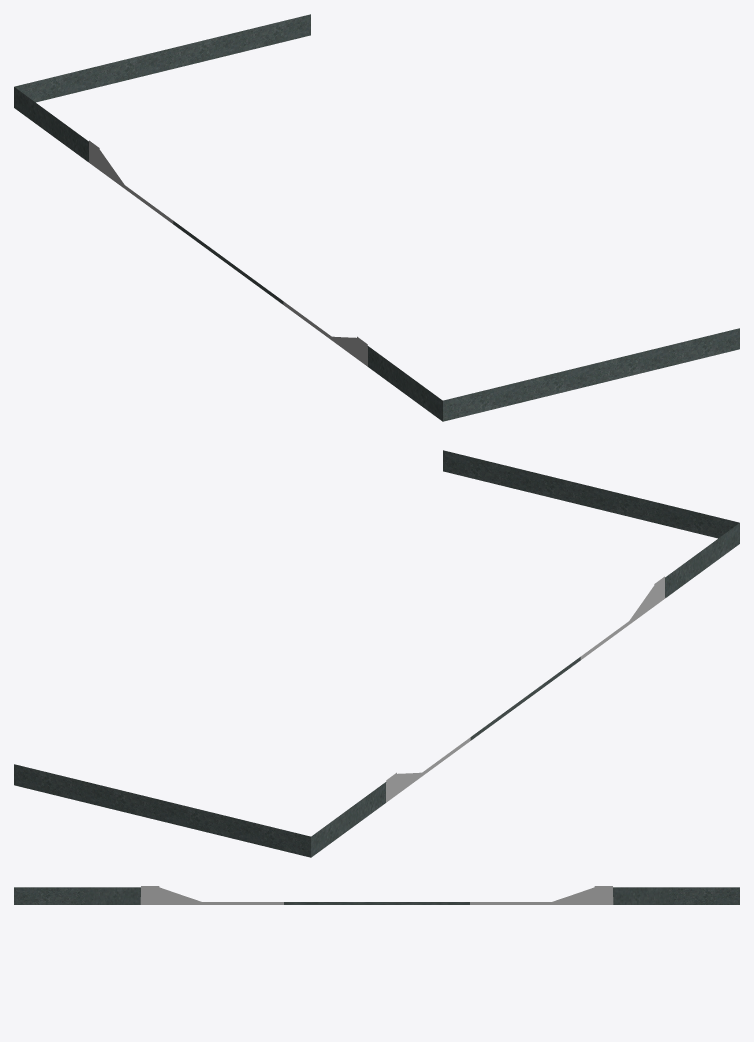
The picture shows the model from 3 angles, top to bottom: view 1: azimuth 30°, elevation 25°; view 2: azimuth 150°, elevation 25°; view 3: azimuth 270°, elevation 25°; orthographic projection. The views are drawn at different scales.
Visible parts, largest first — view 1: Joint_0_Object_0, Joint_0_Object_1, Joint_0_Object_3; view 2: Joint_0_Object_0, Joint_0_Object_3, Joint_0_Object_1; view 3: Joint_0_Object_0, Joint_0_Object_1, Joint_0_Object_3, Joint_0_Object_2.
Boxes of the visible parts, left/top/right/bottom form: Joint_0_Object_0: left=14, top=14, right=739, bottom=421; Joint_0_Object_1: left=88, top=140, right=173, bottom=223; Joint_0_Object_3: left=283, top=301, right=367, bottom=366; Joint_0_Object_0: left=14, top=450, right=739, bottom=857; Joint_0_Object_3: left=580, top=576, right=665, bottom=659; Joint_0_Object_1: left=386, top=737, right=470, bottom=802; Joint_0_Object_0: left=14, top=887, right=739, bottom=904; Joint_0_Object_1: left=470, top=886, right=613, bottom=904; Joint_0_Object_3: left=140, top=886, right=283, bottom=904; Joint_0_Object_2: left=284, top=902, right=469, bottom=904.
Size of the model in its own units: 4000 by 289 by 10000.
